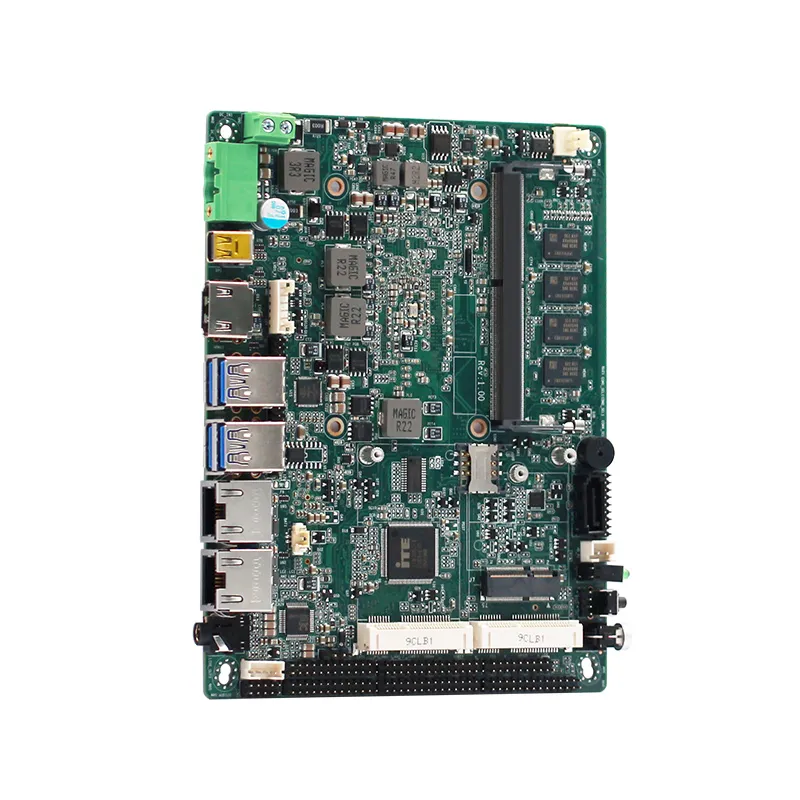Induktor: (325, 244, 367, 289), (278, 148, 319, 194), (380, 398, 422, 438), (326, 295, 364, 336), (372, 159, 399, 186), (402, 160, 427, 187)
